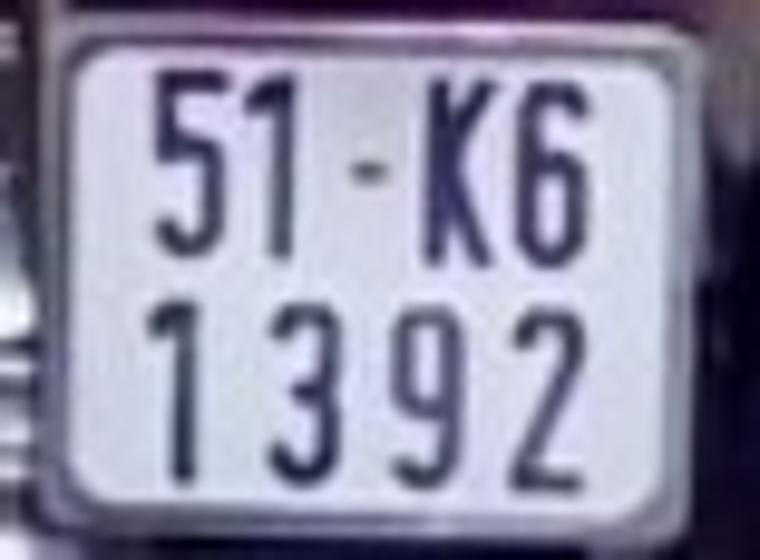-: (342, 156, 392, 185)
1: (242, 67, 304, 260), (142, 300, 206, 480)
2: (502, 302, 590, 494)
3: (254, 298, 334, 478)
5: (152, 60, 231, 253)
6: (517, 75, 597, 272)
9: (387, 290, 466, 484)
K: (418, 71, 502, 271)
